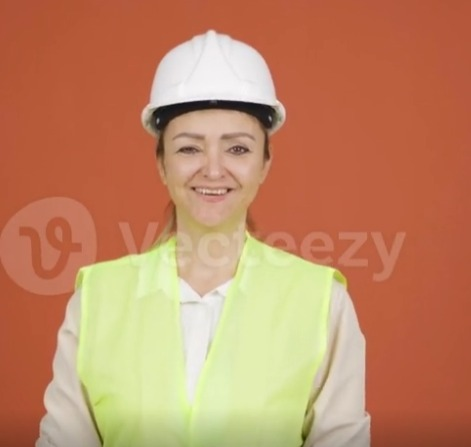safety_helmet: (140, 29, 287, 138)
